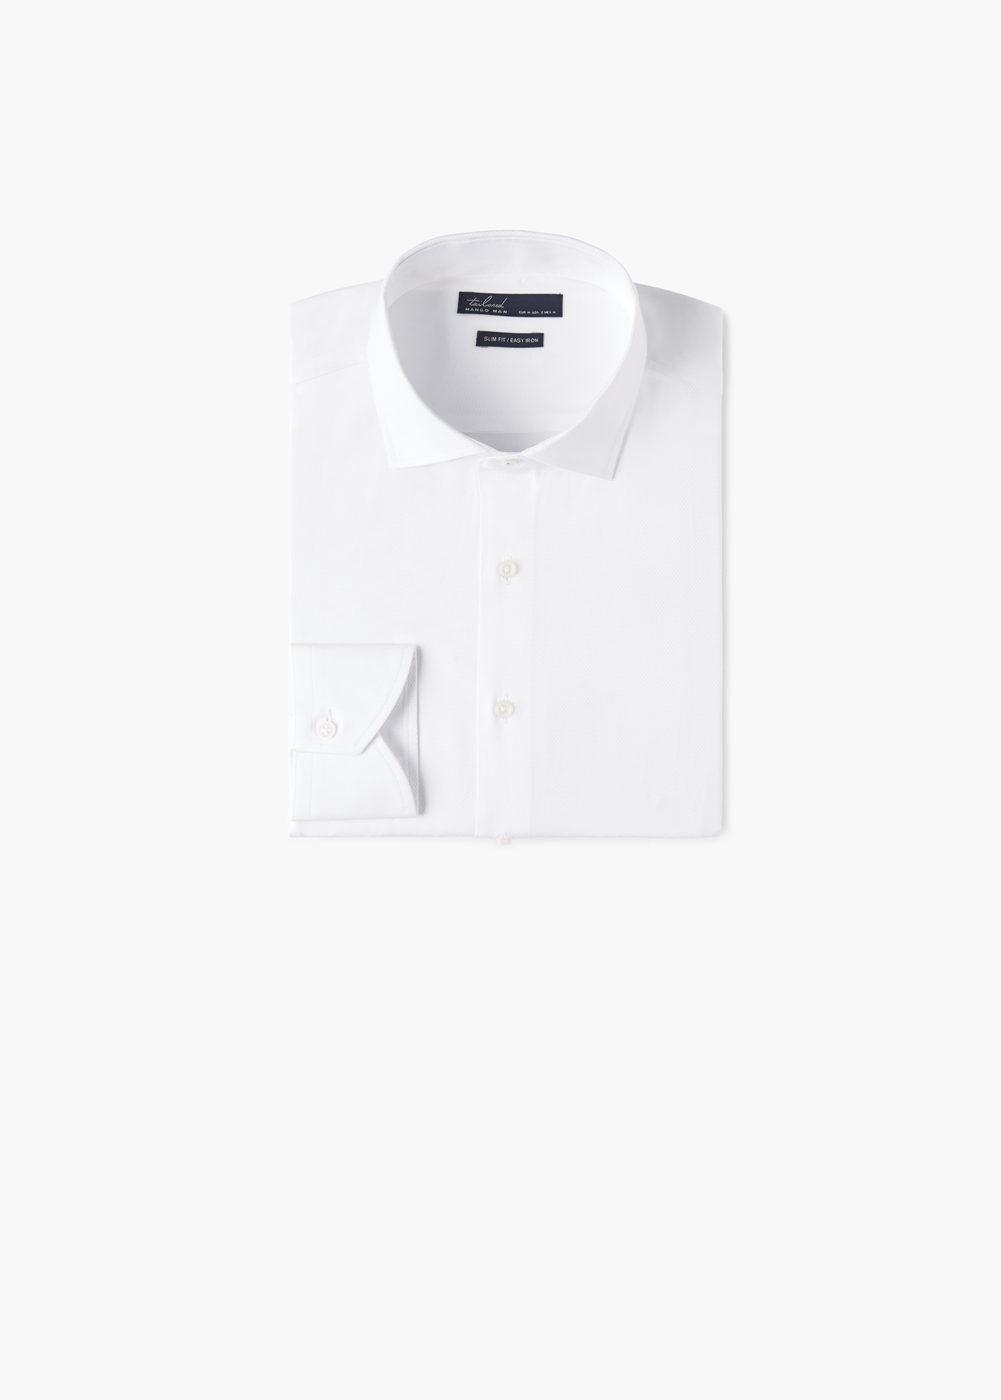teeshirt: (238, 227, 767, 867)
